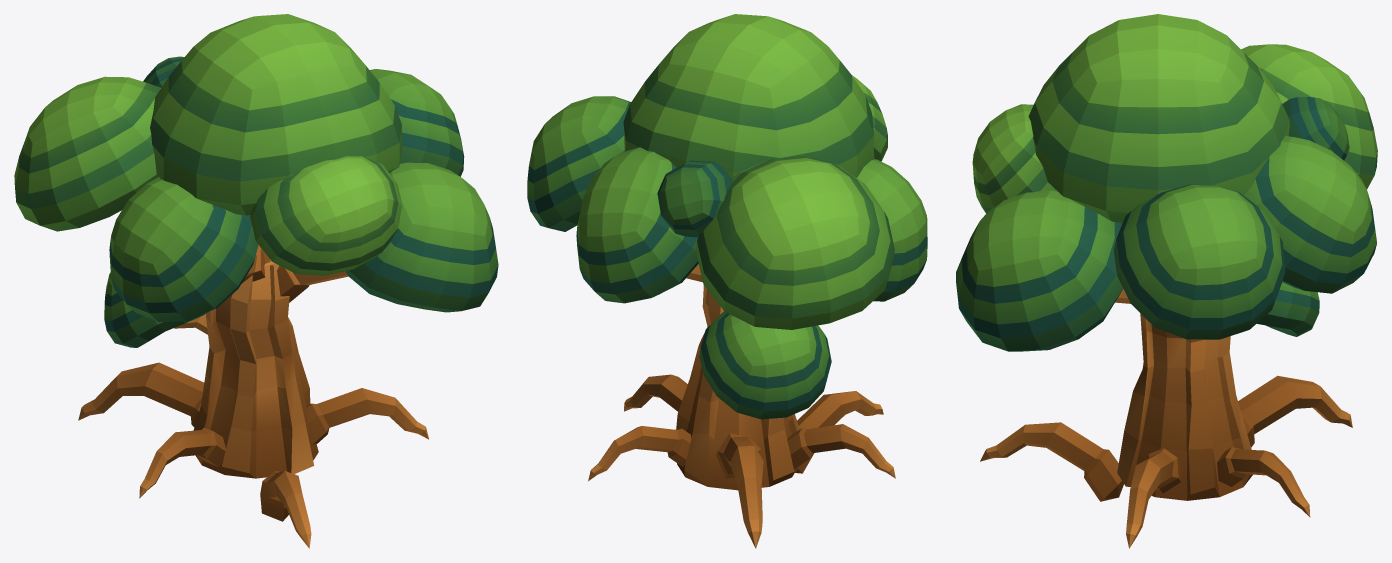
File: Tree_Large_D.fbx
3 renders of one model, left to right at view 1: azimuth 30°, elevation 25°; view 2: azimuth 150°, elevation 25°; view 3: azimuth 270°, elevation 25°, orthographic. The views are drawn at different scales.
Visible parts, largest first — view 1: Tree_Large_D; view 2: Tree_Large_D; view 3: Tree_Large_D.
Part boxes in pixels (box(x1,y1,x2,y2)): Tree_Large_D: box(14, 14, 498, 548); Tree_Large_D: box(527, 14, 927, 548); Tree_Large_D: box(956, 14, 1377, 548).
Bounding box in the file's own units: 268 × 311 × 245.
